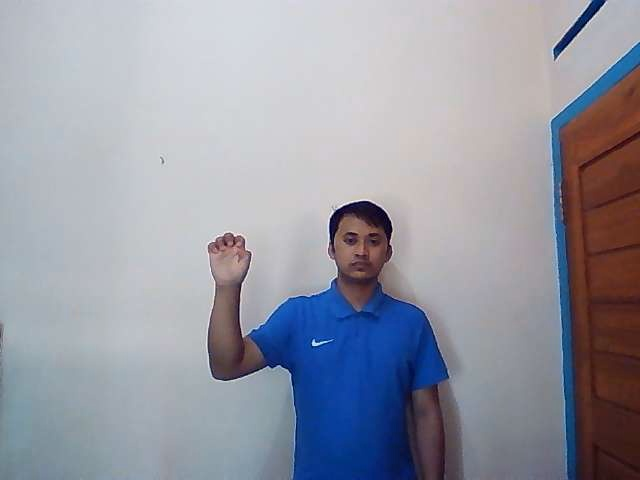E: (206, 232, 253, 289)
